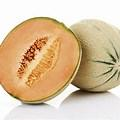Melon Ripe: (0, 17, 82, 104), (70, 18, 120, 92)
